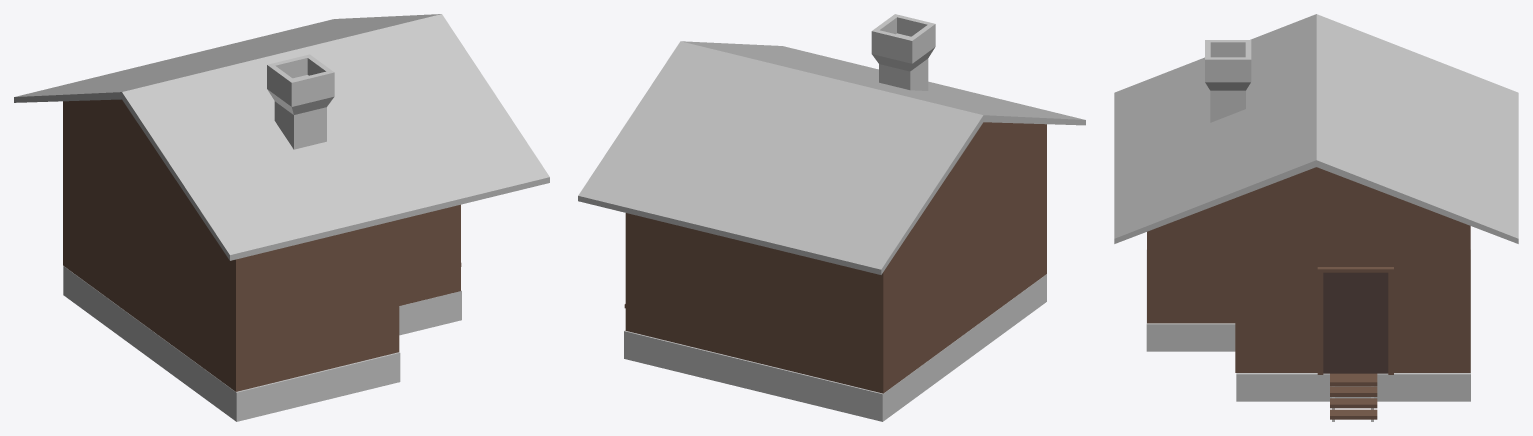
The model's file is sauna.fbx.
The picture shows the model from 3 angles, left to right: view 1: azimuth 30°, elevation 25°; view 2: azimuth 150°, elevation 25°; view 3: azimuth 270°, elevation 25°; orthographic projection. The views are drawn at different scales.
Parts seen in each view (by area): view 1: Plane, Cube, Cube.002, Cube.003; view 2: Plane, Cube, Cube.002, Cube.003; view 3: Plane, Cube, Cube.002, Cube.003, Cube.001.
Part boxes in pixels (left/top/right/bottom): Plane: left=14, top=14, right=549, bottom=260; Cube: left=63, top=99, right=460, bottom=391; Cube.002: left=63, top=266, right=461, bottom=421; Cube.003: left=267, top=54, right=334, bottom=149; Plane: left=578, top=41, right=1085, bottom=274; Cube: left=625, top=122, right=1046, bottom=393; Cube.002: left=624, top=274, right=1046, bottom=421; Cube.003: left=871, top=14, right=935, bottom=90; Plane: left=1114, top=14, right=1518, bottom=243; Cube: left=1147, top=167, right=1470, bottom=374; Cube.002: left=1146, top=250, right=1470, bottom=401; Cube.003: left=1205, top=40, right=1251, bottom=122; Cube.001: left=1330, top=373, right=1377, bottom=419.
Bounding box in the file's own units: 1273 × 1037 × 1375.
